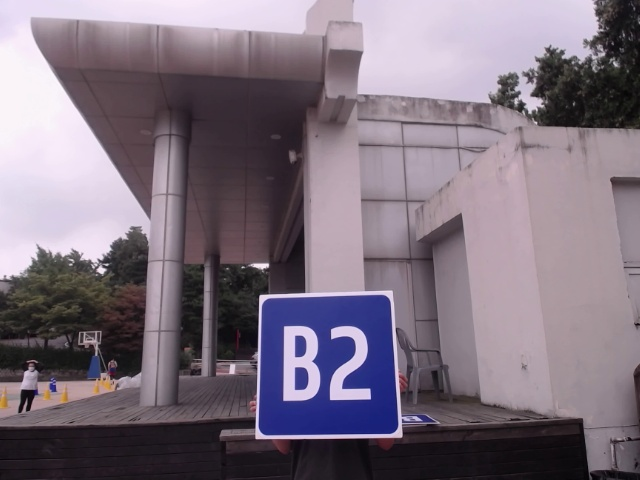delivery_b2: (258, 293, 400, 441)
